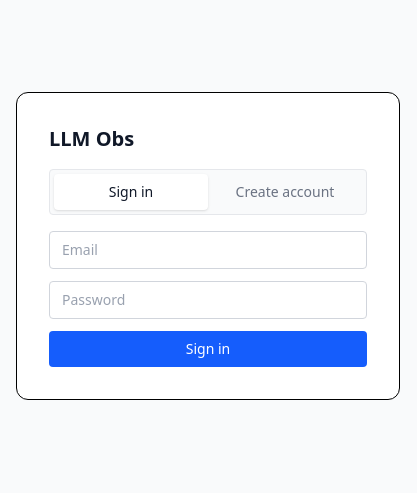
Scenario: App › shows a closed-registration error when registration is disabled
The width and height of the screenshot is (417, 493).
Click the button "Create account" at {"x": 285, "y": 192}, box x1=208 y1=174 x2=362 y2=210
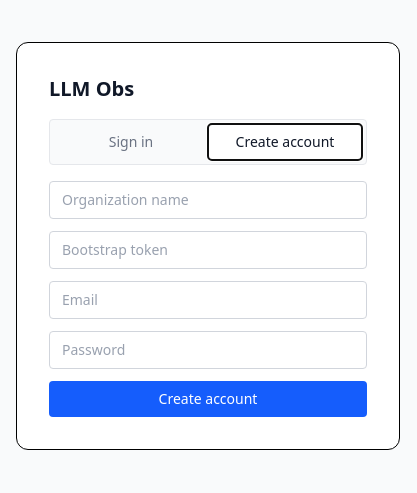
Type "Demo Org" into the field with placeholder "Organization name" at {"x": 208, "y": 200}, box x1=49 y1=181 x2=367 y2=219
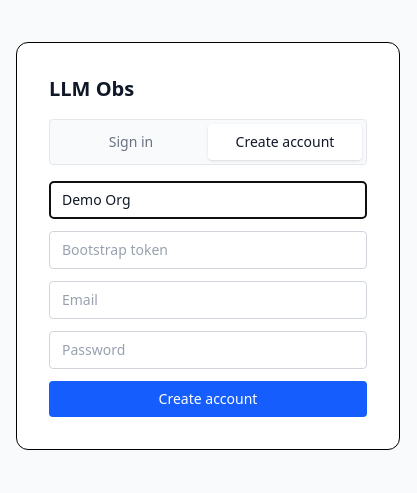
Type "admin@example.com" into the field with placeholder "Email" at {"x": 208, "y": 300}, box x1=49 y1=281 x2=367 y2=319
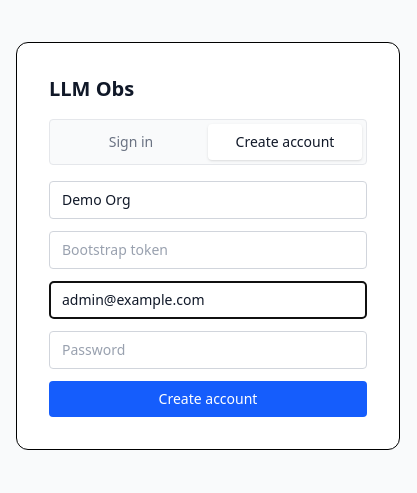
Type "secret123" into the password field with placeholder "Password" at {"x": 208, "y": 350}, box x1=49 y1=331 x2=367 y2=369
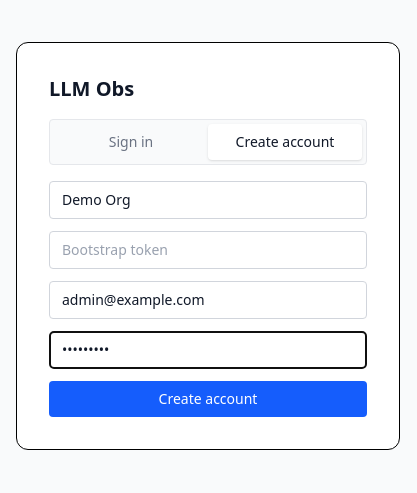
Click the 2nd button "Create account" at {"x": 208, "y": 399}, box x1=49 y1=381 x2=367 y2=417
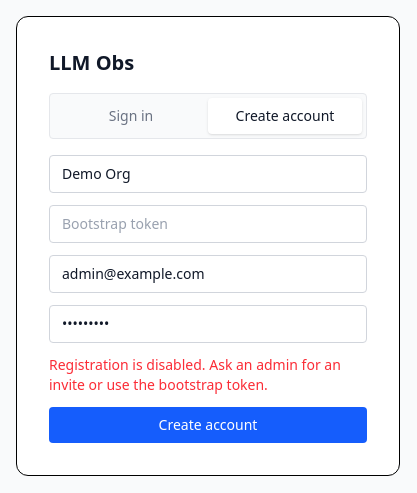
Expected: the text "Registration is disabled. Ask an admin for an invite or use the bootstrap token." is shown, x1=49 y1=355 x2=367 y2=395
